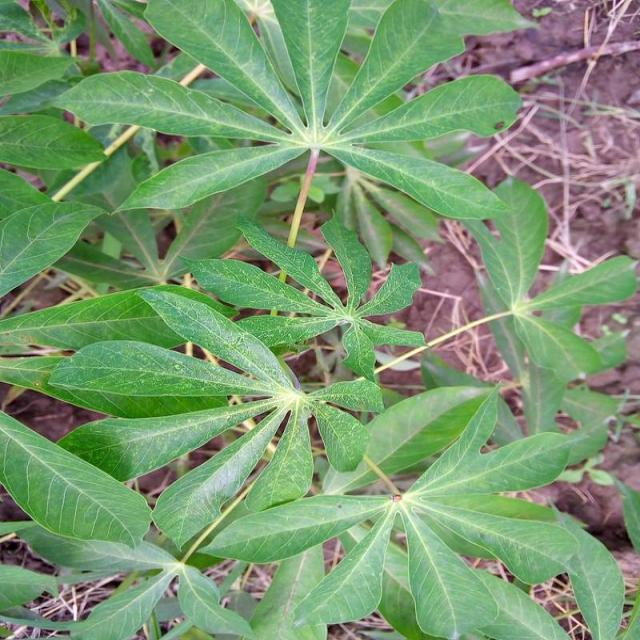cassava leaf: (1, 0, 634, 638)
